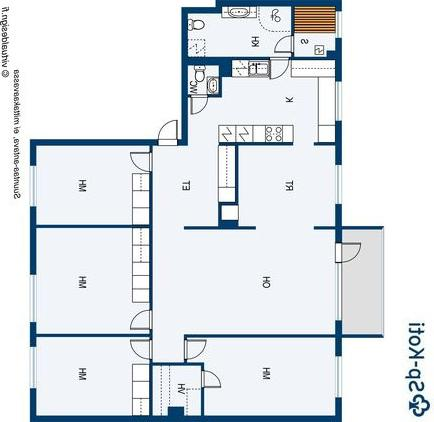door: (333, 239, 364, 266), (156, 118, 179, 148), (127, 308, 154, 332), (182, 338, 210, 361), (128, 338, 156, 361), (130, 149, 154, 174), (267, 54, 290, 80), (272, 34, 297, 56), (198, 368, 222, 390), (190, 94, 209, 116)
window: (26, 270, 38, 326), (332, 162, 346, 208), (334, 260, 344, 324), (28, 161, 40, 212), (332, 78, 344, 126), (28, 342, 38, 392), (333, 350, 342, 400), (334, 7, 344, 42)
